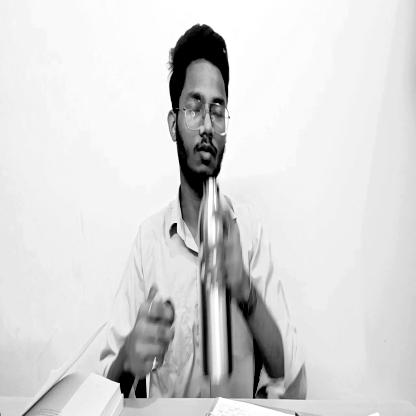Normal: (166, 29, 236, 196)
